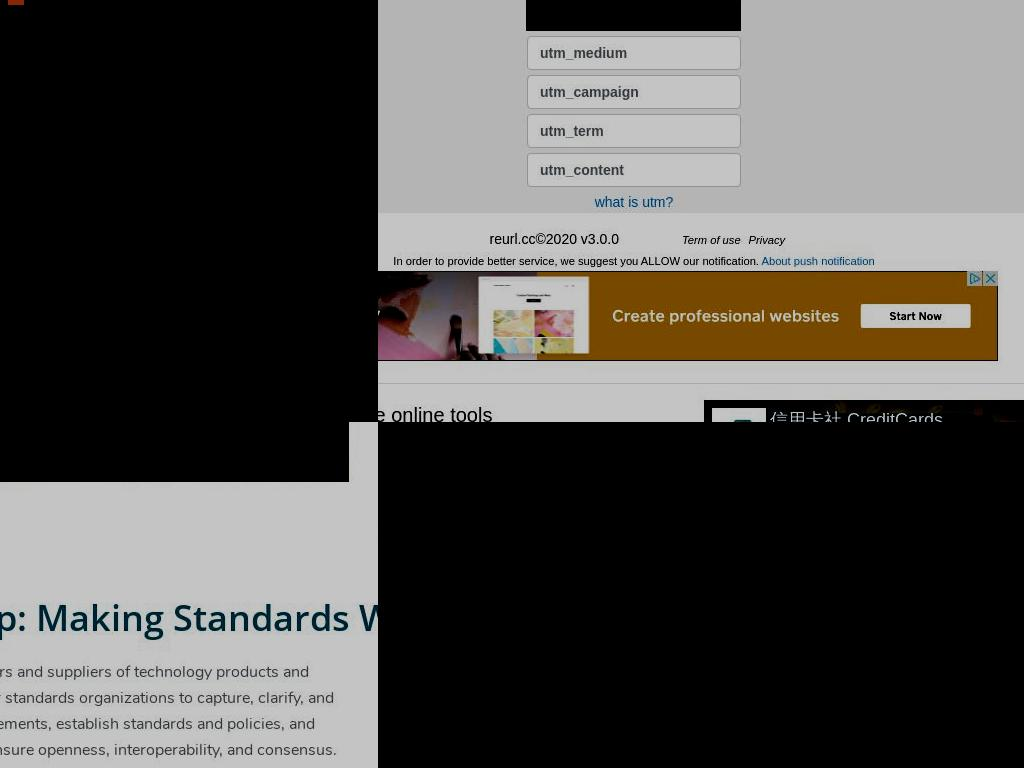button: (378, 422, 1024, 768), (0, 305, 40, 343), (682, 229, 741, 250), (748, 229, 786, 250)
field: (526, 36, 741, 70), (526, 75, 741, 109), (526, 114, 741, 148), (526, 153, 741, 187), (526, 0, 741, 31)
heading: (0, 225, 378, 290), (0, 596, 378, 639), (0, 100, 263, 157), (0, 156, 199, 213)
iframe: (378, 271, 998, 361)
image: (378, 422, 1024, 768), (378, 653, 386, 669)
text: (0, 659, 349, 763), (393, 255, 762, 267), (489, 231, 619, 247), (378, 404, 492, 422), (761, 255, 876, 267), (594, 194, 673, 210), (682, 234, 741, 246), (748, 234, 786, 246)
